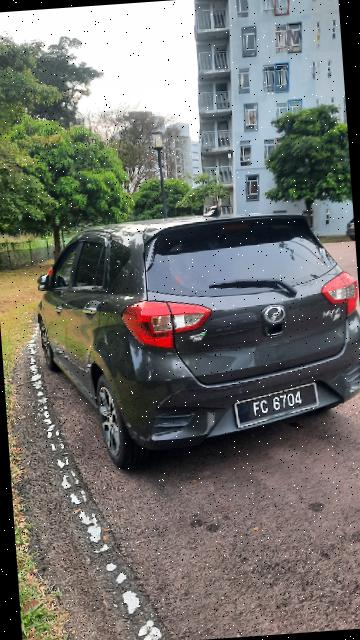License_Plate: (233, 381, 328, 434)
car: (30, 200, 360, 481)
